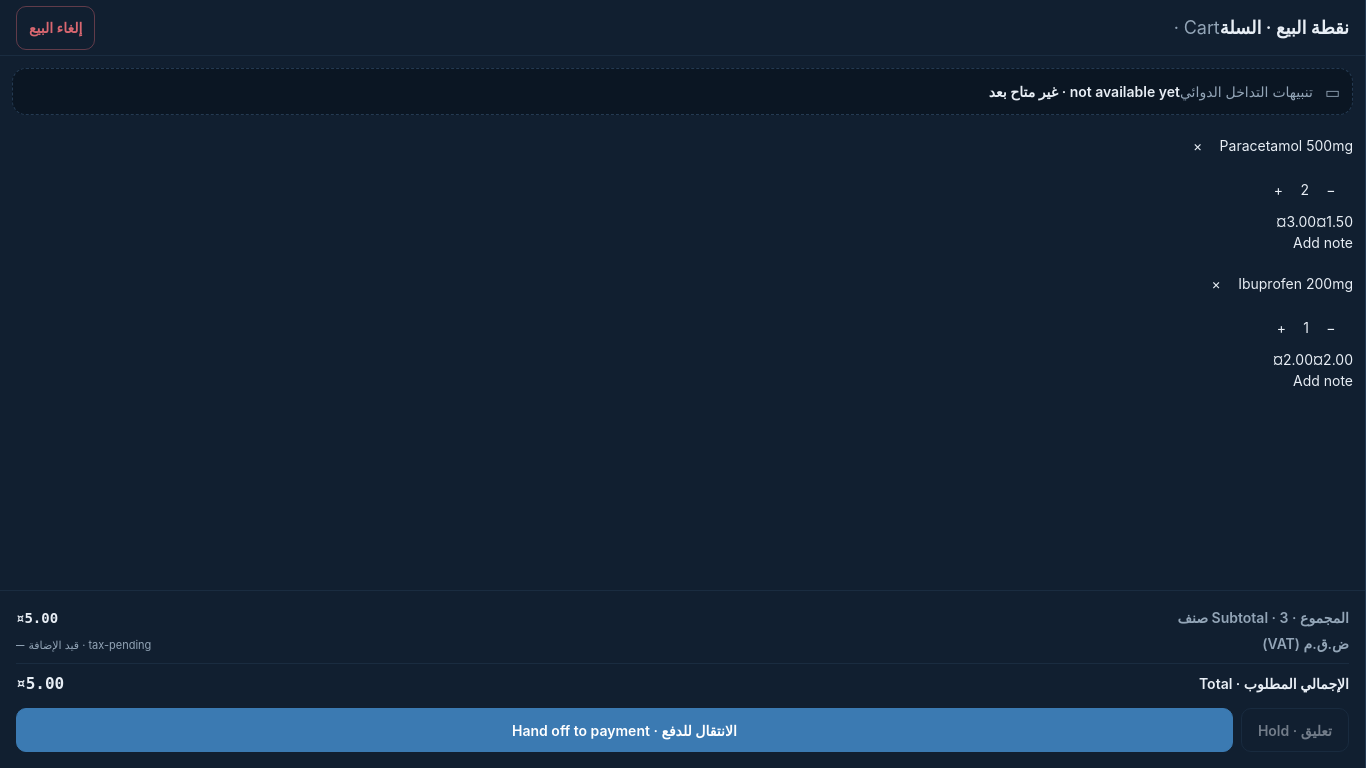
T052 — CartPane bridge: multi-line non-target branches › decrement on line-1 leaves line-2 unchanged (covers non-target map arm)
What coordinates should you click on to do the following:
click the button with test id "qty-decrement" below "Paracetamol 500mg"
I would click on:
 (1331, 189)
Its box is [1309,167,1353,211].
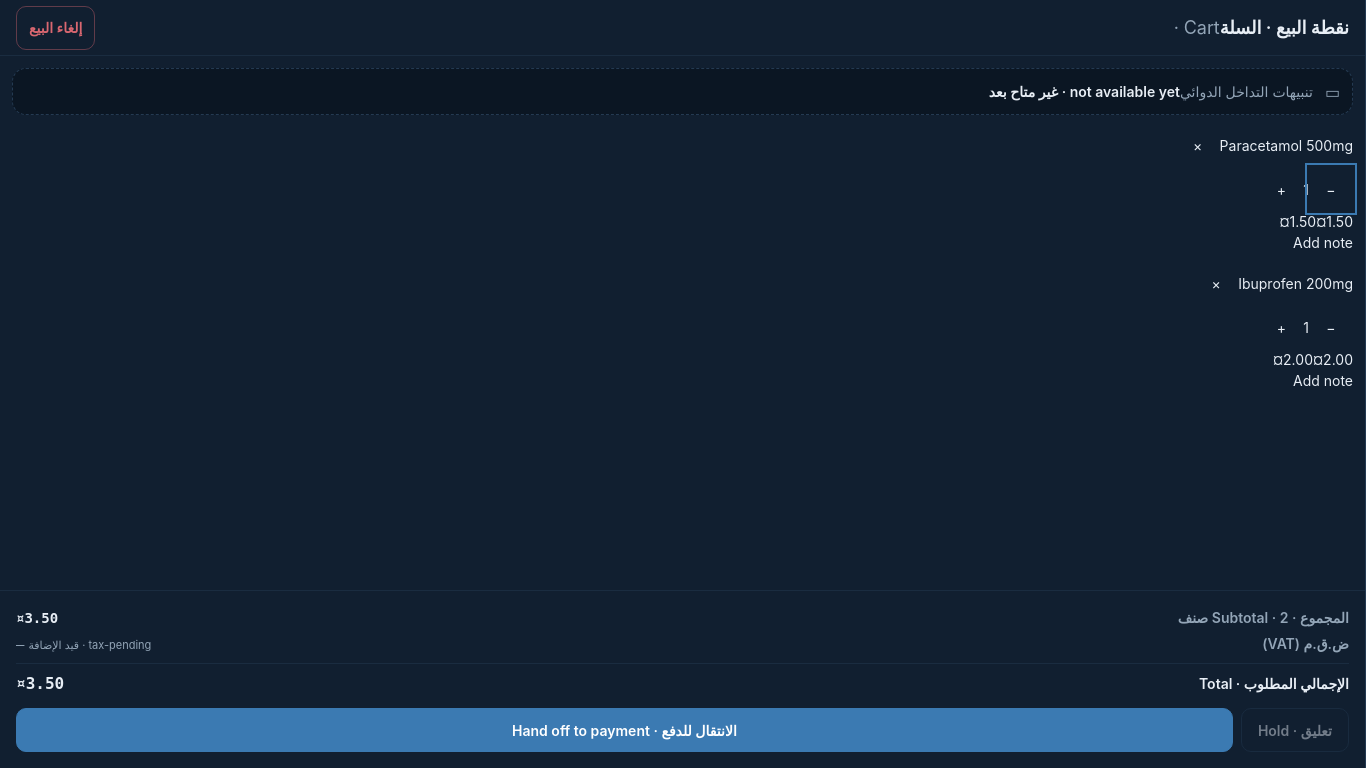
Expected: the text with test id "qty-display" below "Ibuprofen 200mg" reads "1", [1303,318,1309,336]
Expected: the text with test id "qty-display" below "Paracetamol 500mg" reads "1", [1303,180,1309,198]
